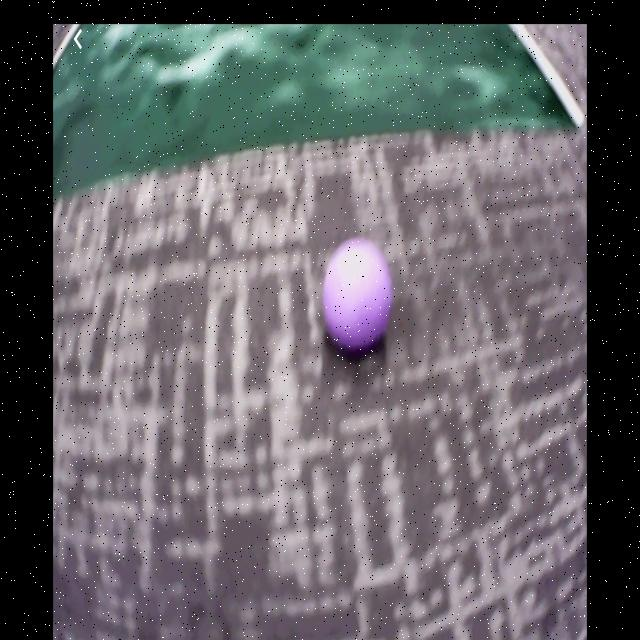ball: (323, 239, 394, 350)
